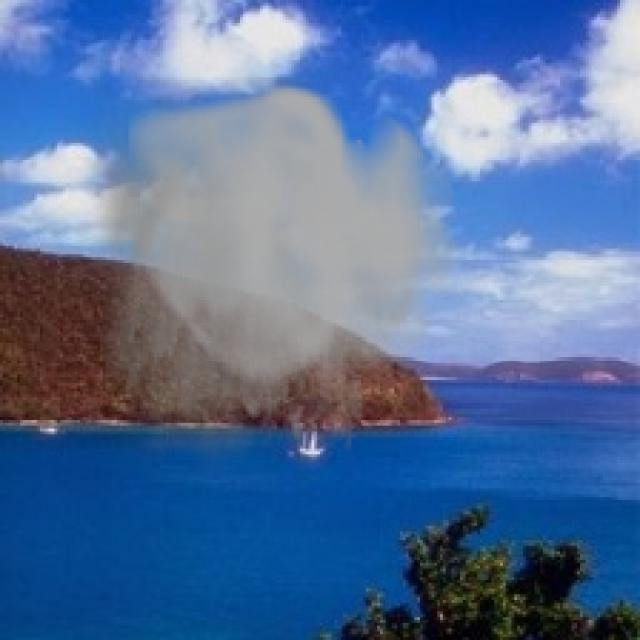smoke: (77, 77, 460, 492)
